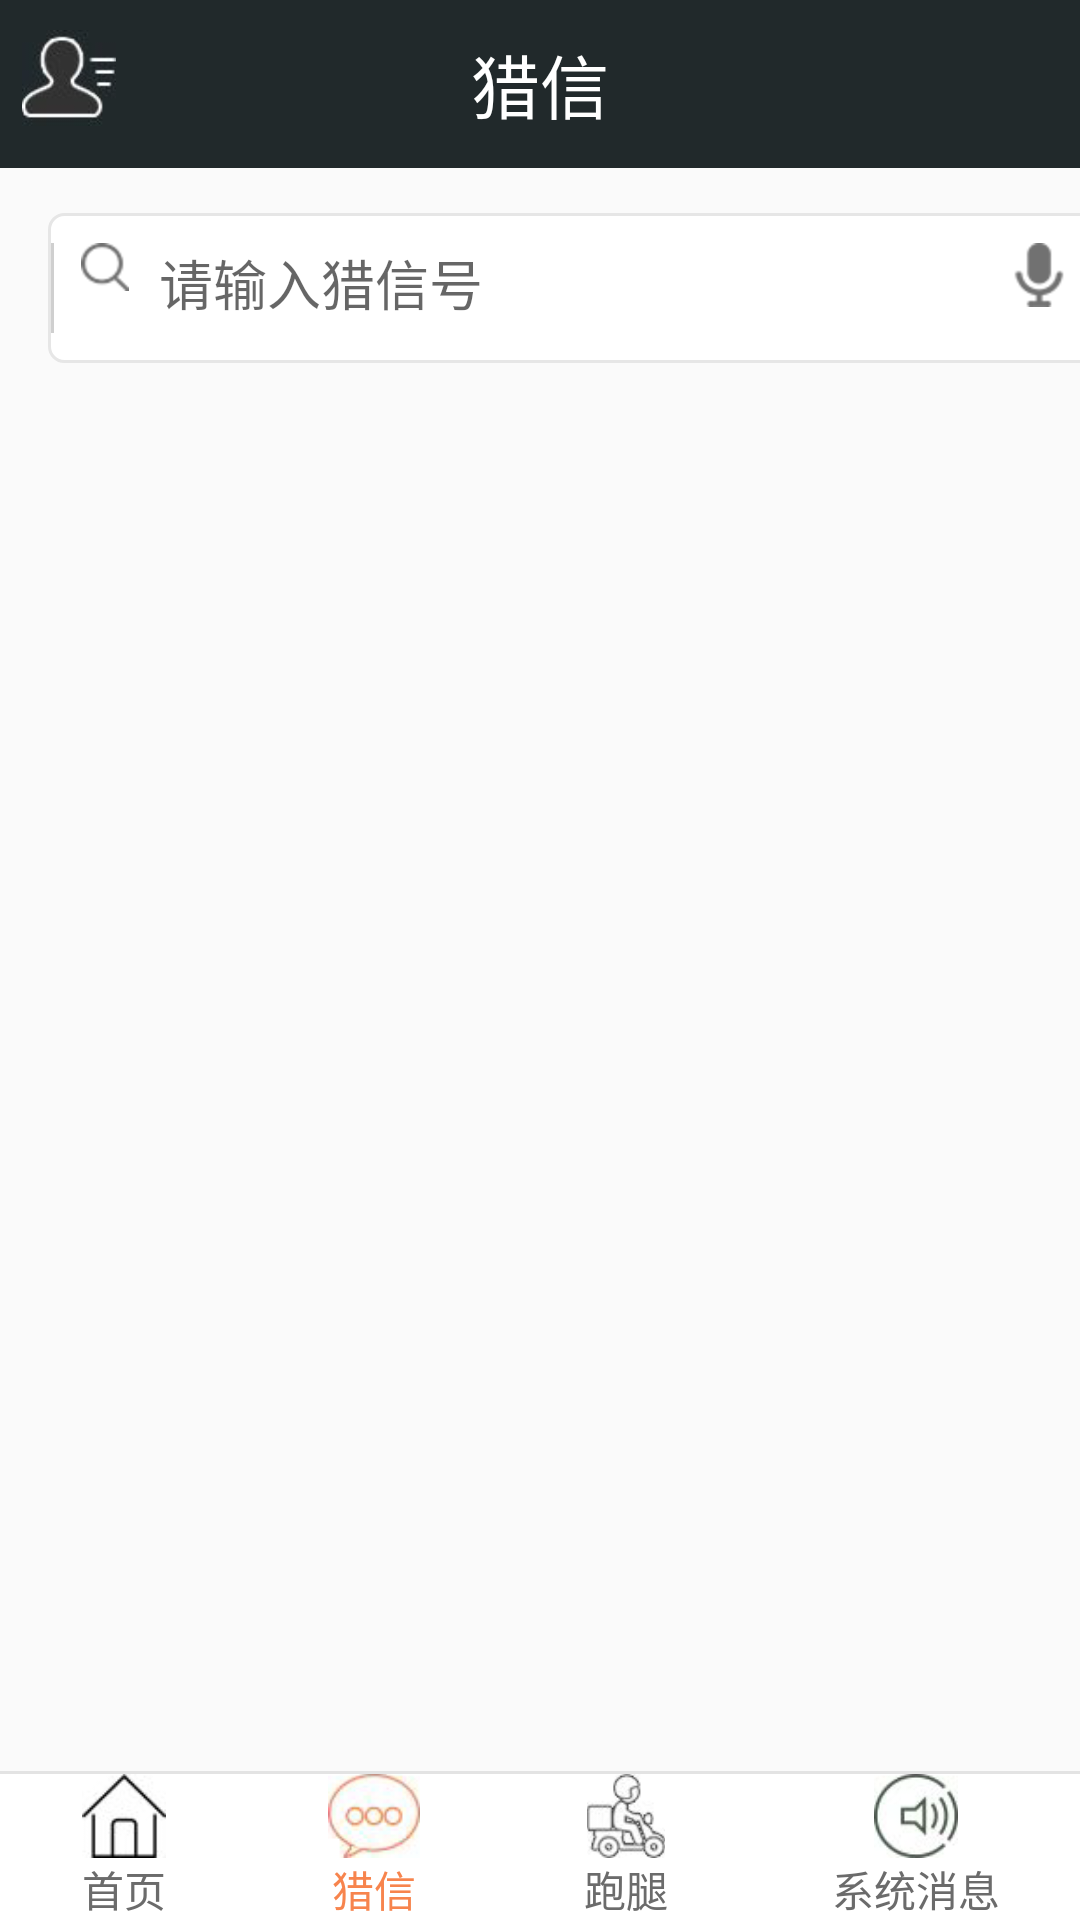

Icon click points for this 1080 × 1920 phone screenshot, format [x,y]:
contacts: [69,77]
search: [105,267]
voice: [1039,275]
